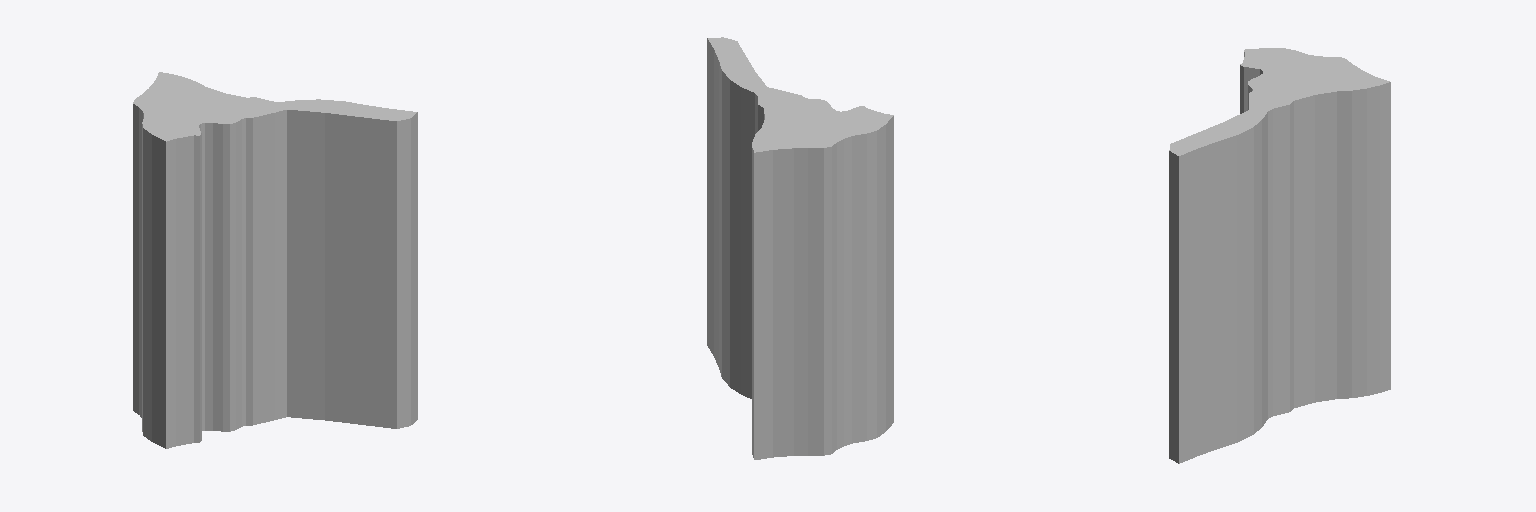
3 renders of one model, left to right at view 1: azimuth 30°, elevation 25°; view 2: azimuth 150°, elevation 25°; view 3: azimuth 270°, elevation 25°, orthographic.
Visible parts, largest first — view 1: ER.002_CUCurve.1845; view 2: ER.002_CUCurve.1845; view 3: ER.002_CUCurve.1845.
Boxes of the visible parts, x1=… form: ER.002_CUCurve.1845: x1=133, y1=72, x2=417, y2=448; ER.002_CUCurve.1845: x1=707, y1=37, x2=893, y2=459; ER.002_CUCurve.1845: x1=1169, y1=48, x2=1390, y2=463.
Bounding box in the file's own units: 0.0378 × 0.05 × 0.0326.